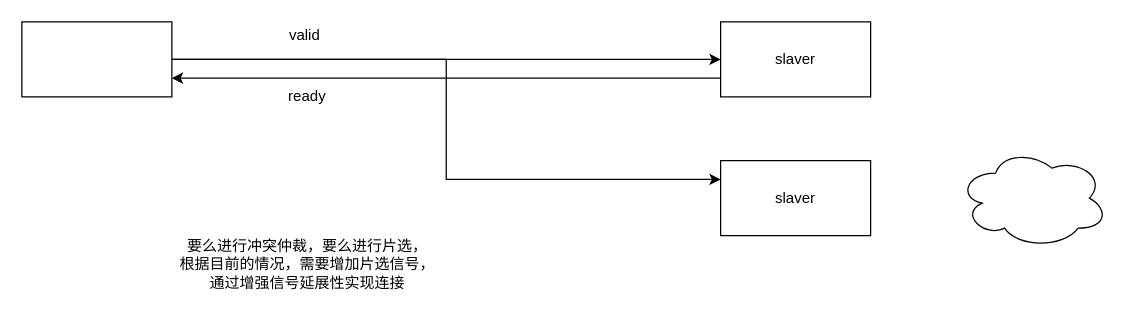
The diagram is 1130 pixels wide and 315 high, and some of its shapes have lost their labels. Here are the shapes that lost their labels. From the top down, the box of each, then its label:
(21, 21, 172, 97): master
(957, 147, 1108, 248): 同步从机
